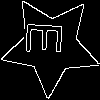E: (25, 20, 71, 56)
